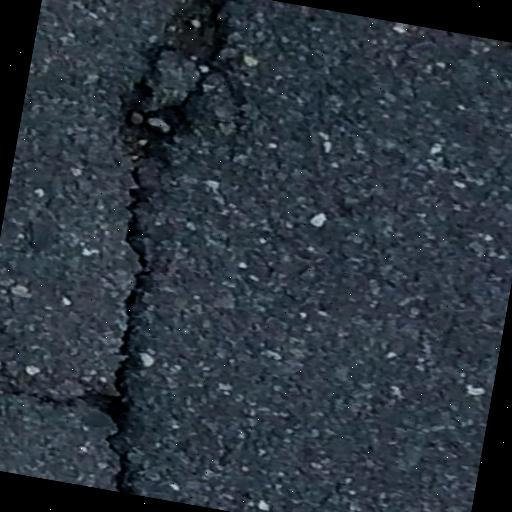spalling: (99, 0, 235, 489)
